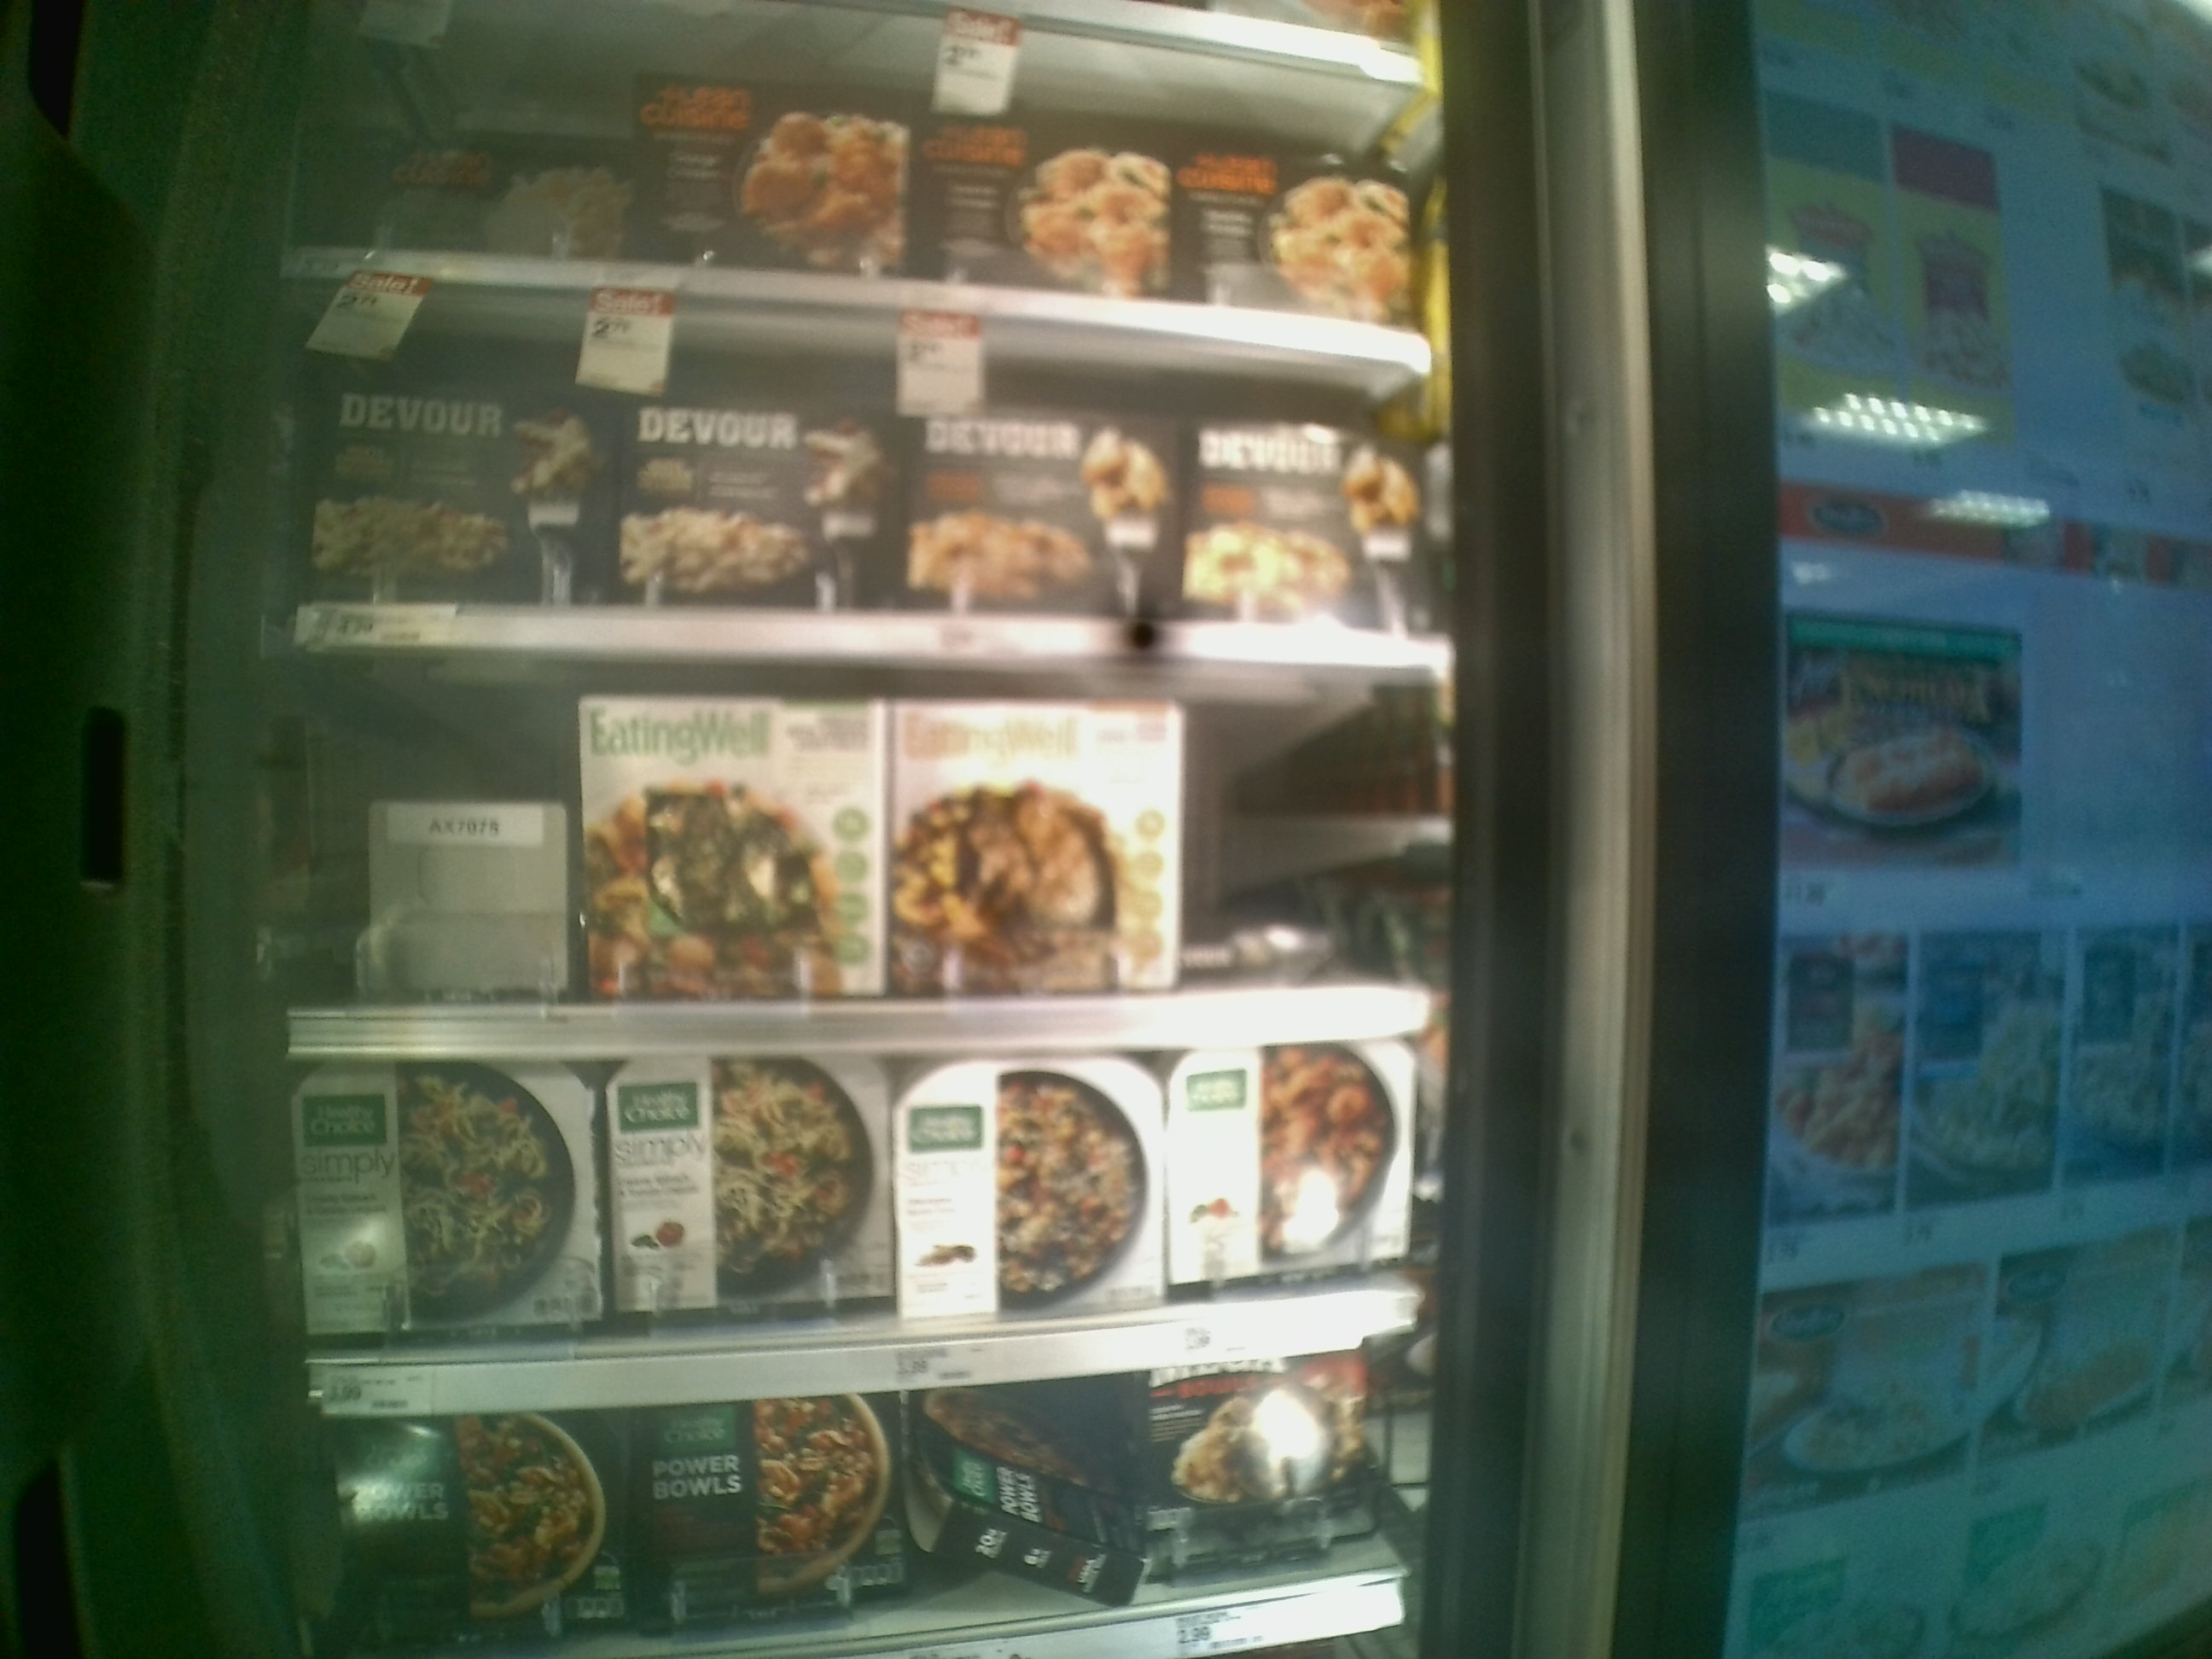shelf: (273, 643, 1456, 1040), (265, 272, 1444, 667), (270, 1044, 1456, 1410)
